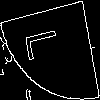L: (24, 25, 68, 62)
